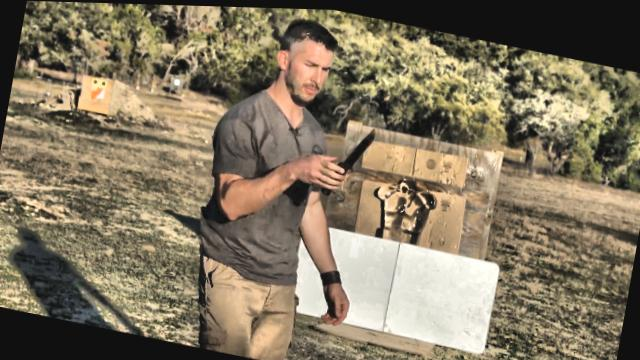knife: (311, 110, 384, 202)
